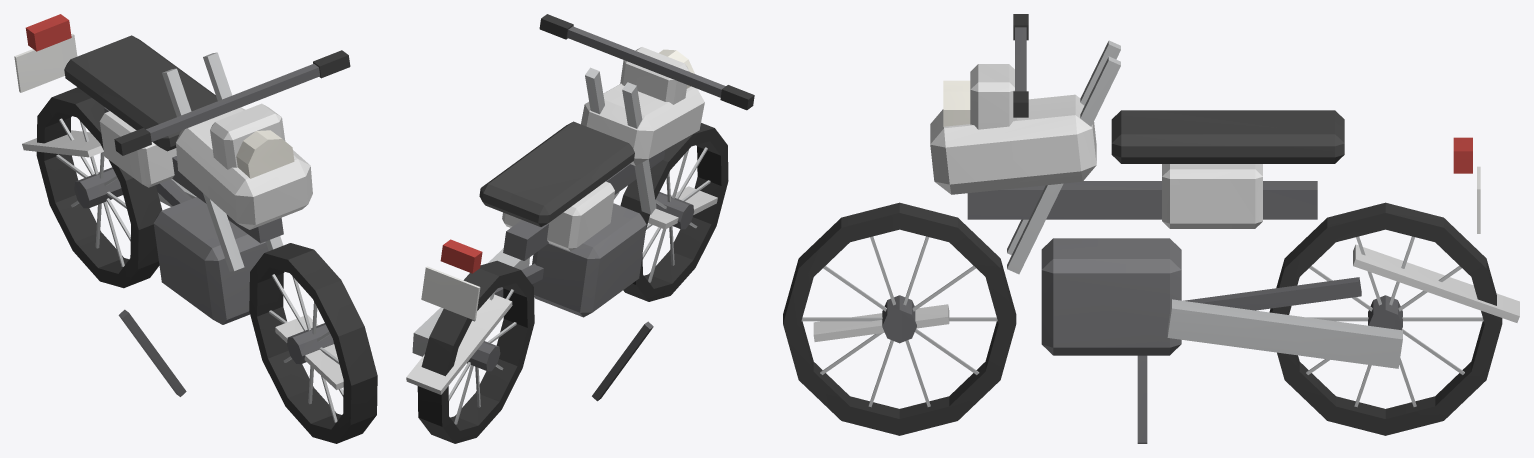
Rendered from two_wheeler.glb.
3 renders of one model, left to right at view 1: azimuth 30°, elevation 25°; view 2: azimuth 150°, elevation 25°; view 3: azimuth 270°, elevation 25°, orthographic. The views are drawn at different scales.
Visible parts, largest first — view 1: two_wheeler; view 2: two_wheeler; view 3: two_wheeler.
Boxes of the visible parts, box(x1,y1,x2,y2) form: two_wheeler: box(14, 14, 377, 443); two_wheeler: box(406, 14, 754, 443); two_wheeler: box(783, 14, 1519, 443).
Size of the model in its own units: 0.7781 by 1.15 by 1.9.
